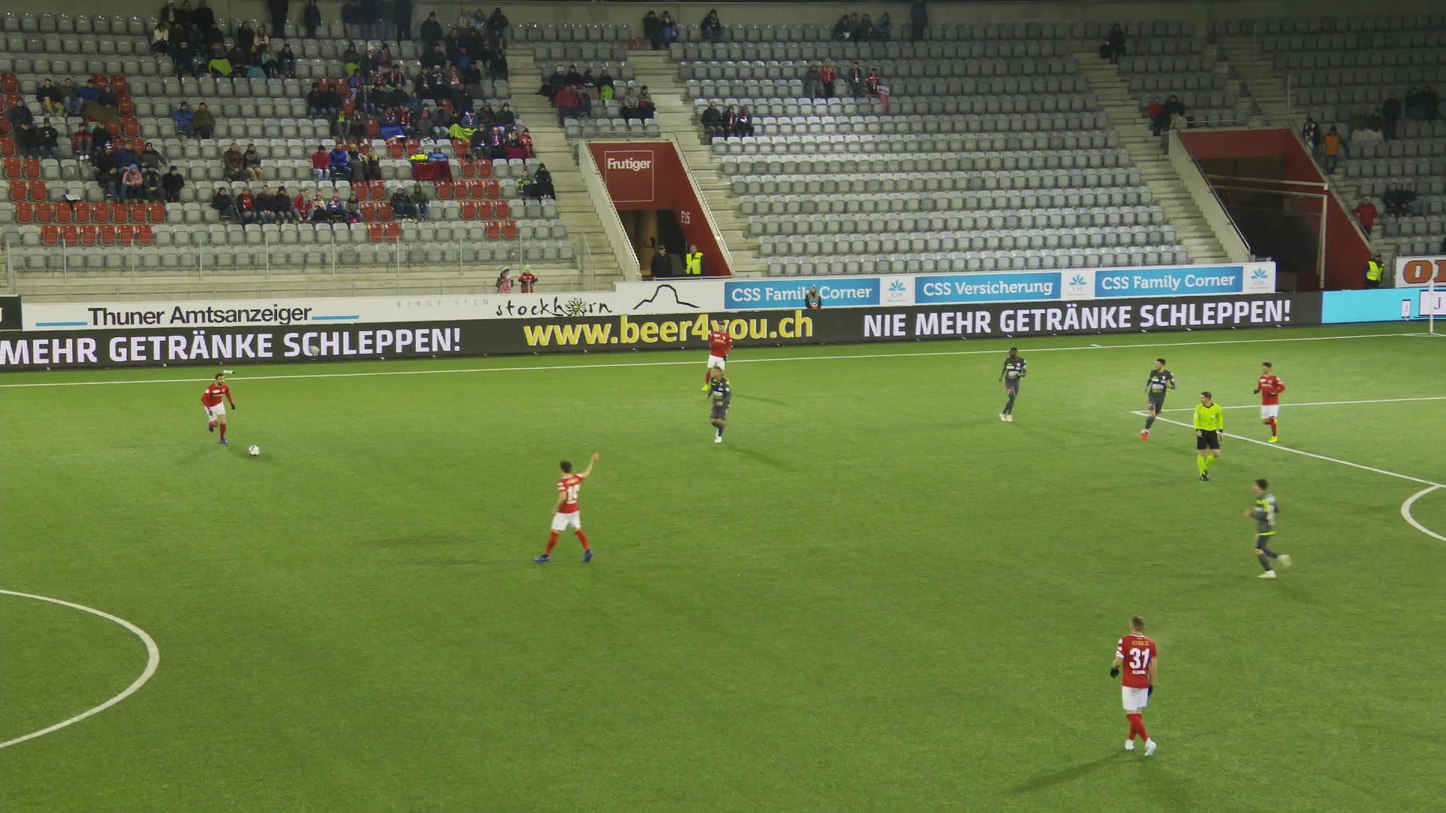ball: (247, 444, 260, 455)
player: (1110, 617, 1161, 757), (547, 464, 602, 563), (1252, 479, 1304, 578), (1138, 359, 1175, 442), (991, 349, 1030, 420), (1258, 360, 1287, 441), (703, 366, 732, 442), (703, 324, 734, 391), (200, 373, 230, 440)
referee: (1192, 391, 1225, 482)
